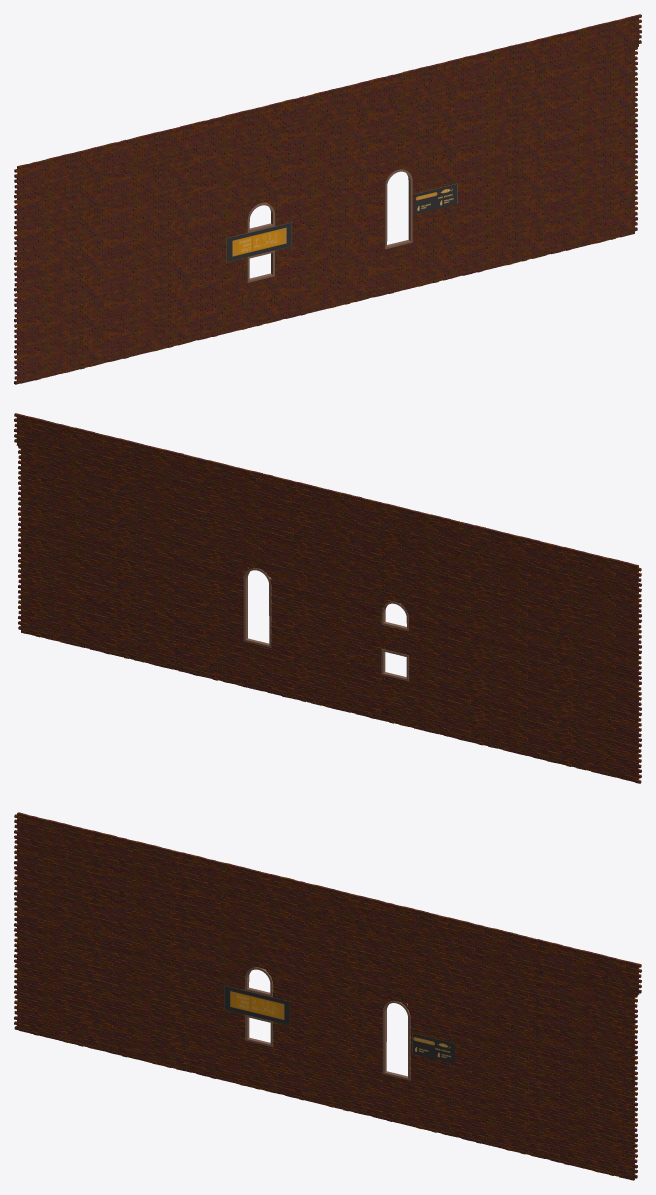
Rendered from brick_wall6.glb.
3 views of the same model, one above another, from view 1: azimuth 30°, elevation 25°; view 2: azimuth 150°, elevation 25°; view 3: azimuth 330°, elevation 25° (orthographic).
Visible parts, largest first — view 1: wall, coffee_sign, exit_sign2, right_window; view 2: wall, right_window; view 3: wall, coffee_sign, exit_sign2, right_window.
Part boxes in pixels (bbox=[...]): wall: bbox=[14, 14, 641, 384]; coffee_sign: bbox=[226, 222, 291, 262]; exit_sign2: bbox=[414, 183, 457, 214]; right_window: bbox=[384, 169, 412, 249]; wall: bbox=[14, 413, 641, 783]; right_window: bbox=[243, 568, 271, 647]; wall: bbox=[14, 812, 641, 1180]; coffee_sign: bbox=[224, 985, 289, 1025]; exit_sign2: bbox=[412, 1033, 454, 1063]; right_window: bbox=[382, 1000, 410, 1080].
Bounding box in the file's own units: 81.06 × 26.85 × 0.527.
Materials: 11 (2 with a texture image).
